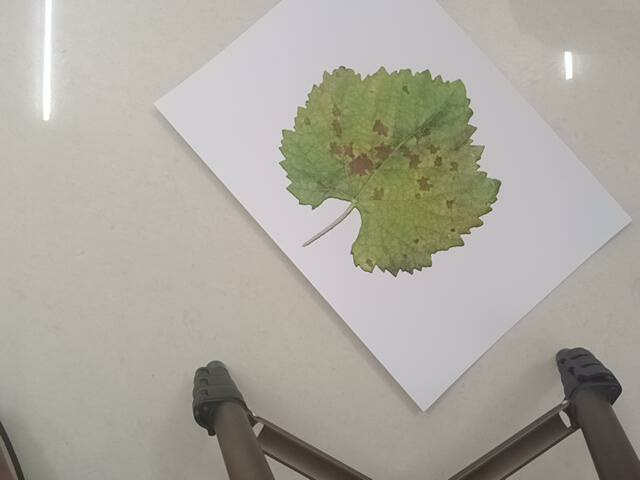Grape_Leaf_Vine_Disease: (270, 62, 511, 283)
